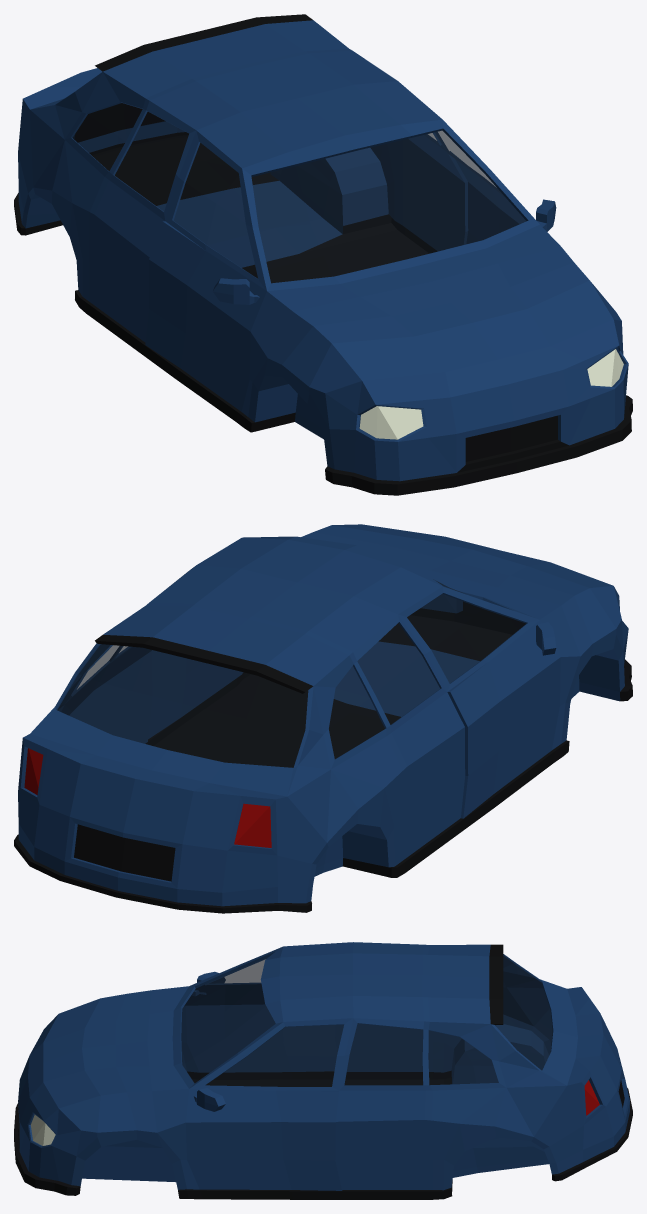
The model's file is QuaterniusCompact.obj.
3 views of the same model, one above another, from view 1: azimuth 30°, elevation 25°; view 2: azimuth 150°, elevation 25°; view 3: azimuth 270°, elevation 25° (orthographic). The views are drawn at different scales.
Visible parts, largest first — view 1: AarisRealisticCompact; view 2: AarisRealisticCompact; view 3: AarisRealisticCompact.
Part boxes in pixels (x1,y1,x2,y2): AarisRealisticCompact: (14, 14, 632, 495); AarisRealisticCompact: (14, 524, 632, 913); AarisRealisticCompact: (14, 942, 632, 1199).
Bounding box in the file's own units: 1.64 × 0.9745 × 3.31.
